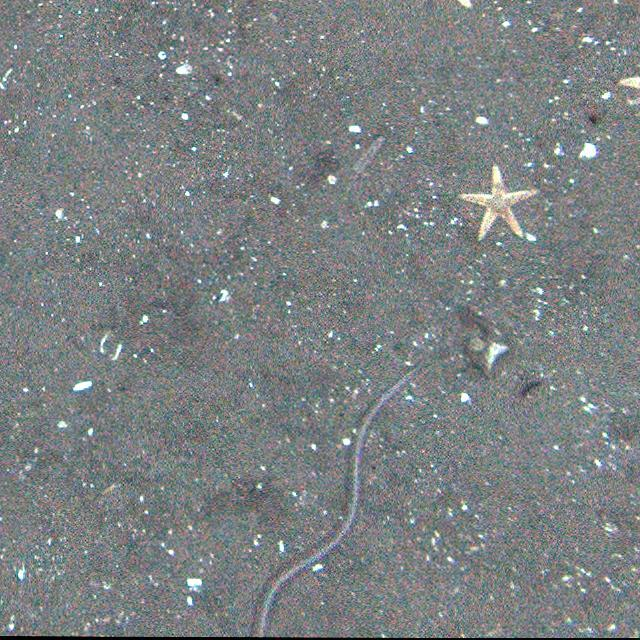eel: (261, 364, 431, 637)
